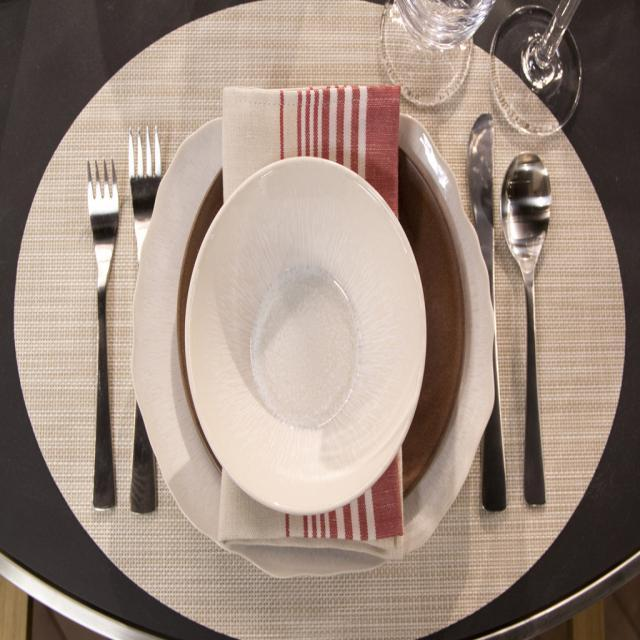ceramic plate: (116, 88, 508, 594)
